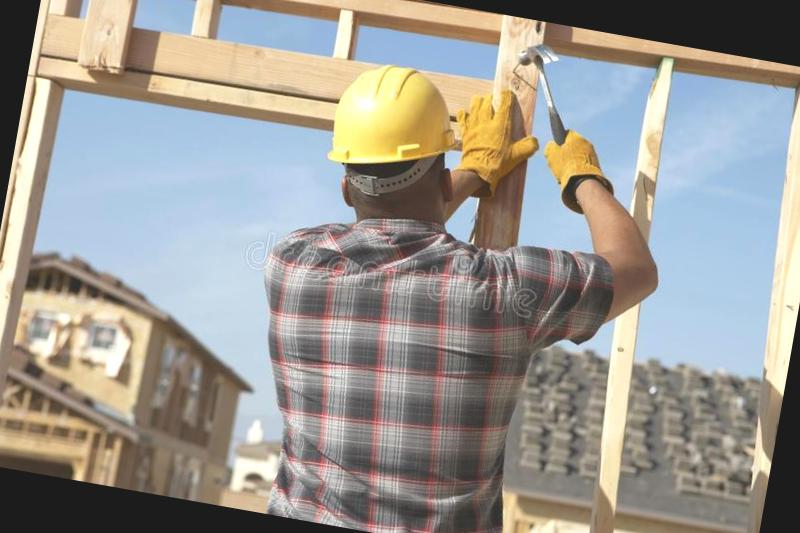helmet: (318, 50, 477, 188)
no_vest: (218, 185, 628, 533)
person: (219, 42, 687, 533)
